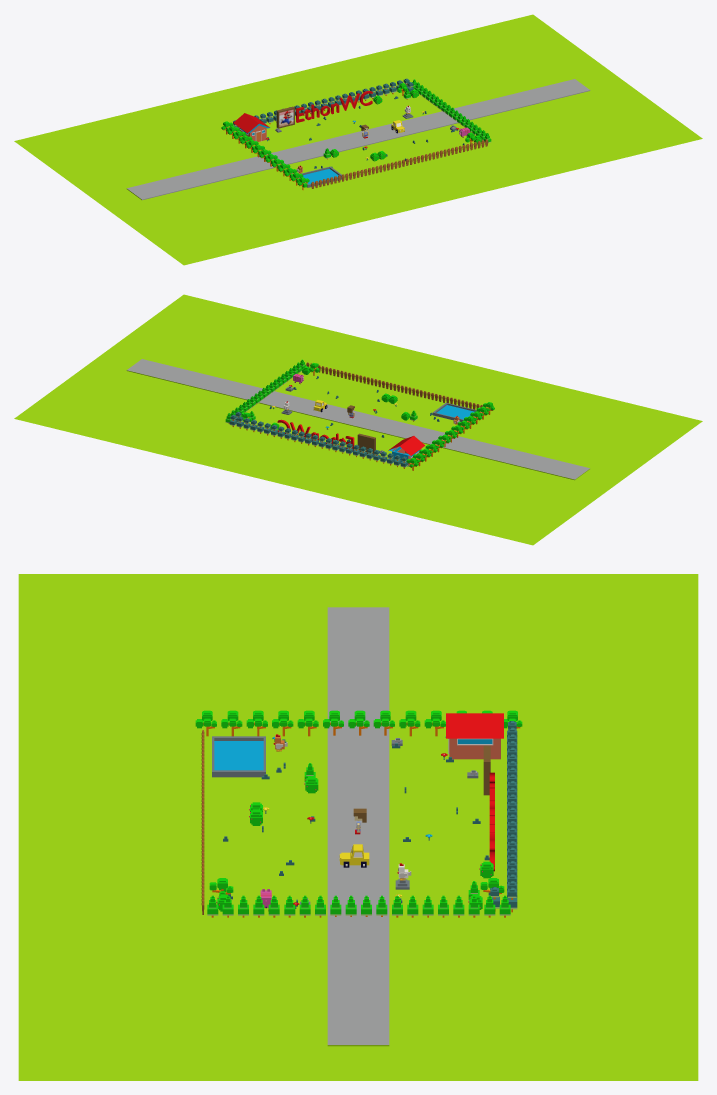
File: PracticeModel05Collider.glb
The picture shows the model from 3 angles, top to bottom: view 1: azimuth 30°, elevation 25°; view 2: azimuth 150°, elevation 25°; view 3: azimuth 270°, elevation 25°; orthographic projection. The views are drawn at different scales.
Parts seen in each view (by area): view 1: Ground, House; view 2: Ground, House; view 3: Ground, House.
Boxes of the visible parts, x1=… form: Ground: x1=14, y1=14, x2=702, y2=265; House: x1=233, y1=113, x2=270, y2=141; Ground: x1=14, y1=294, x2=702, y2=545; House: x1=388, y1=436, x2=424, y2=466; Ground: x1=18, y1=574, x2=698, y2=1080; House: x1=446, y1=713, x2=503, y2=759.
Size of what is drawn, in the model's own units: 482 by 17.22 by 273.
Materials: 30 (1 with a texture image).
